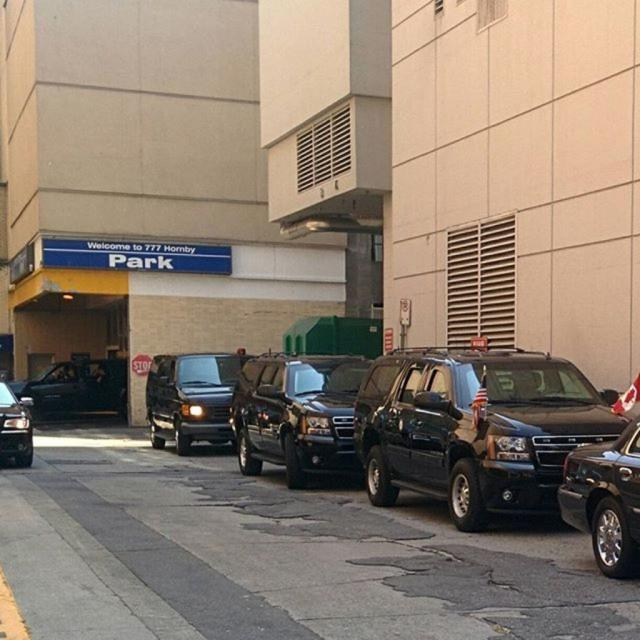other: (145, 348, 639, 580), (21, 359, 128, 428), (0, 371, 36, 471)
